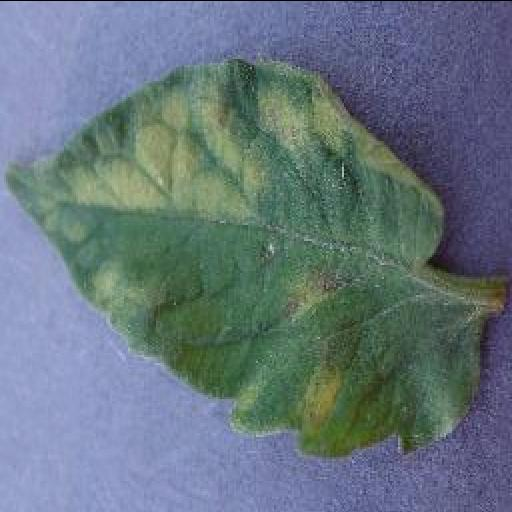disease_tomato: (3, 56, 481, 453)
